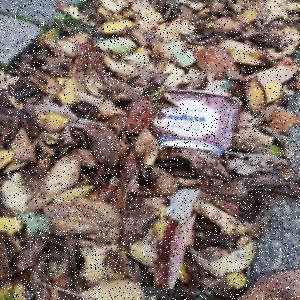Cup: (151, 88, 247, 160)
